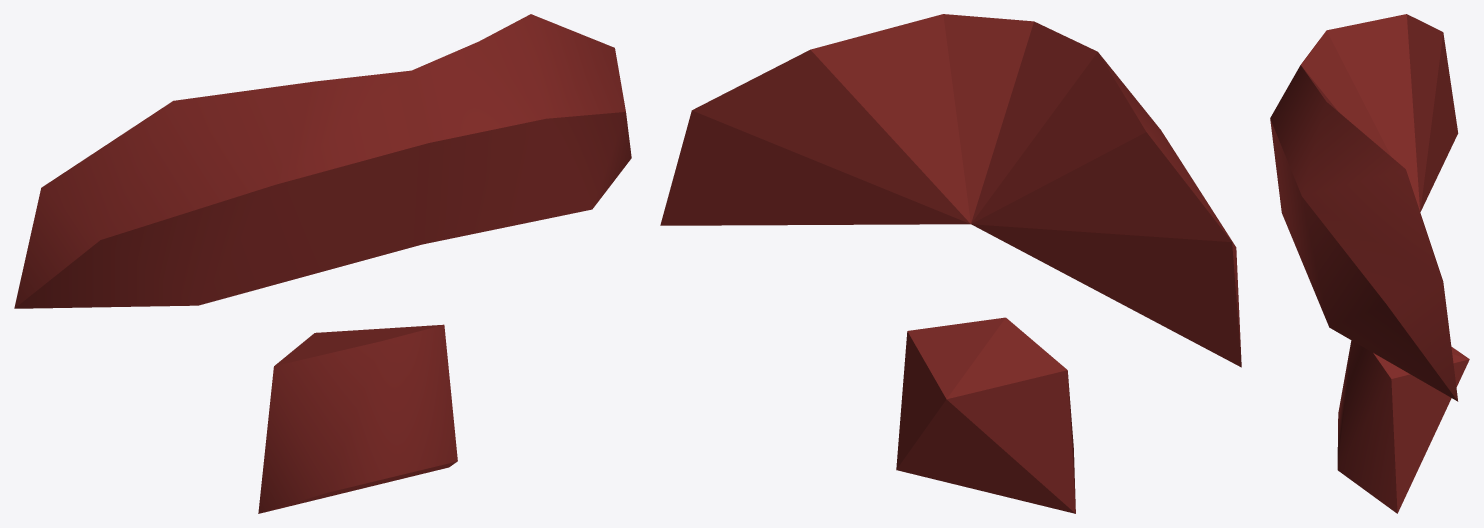
The model's file is Male_Mustache_02.fbx.
The picture shows the model from 3 angles, left to right: view 1: azimuth 30°, elevation 25°; view 2: azimuth 150°, elevation 25°; view 3: azimuth 270°, elevation 25°; orthographic projection. The views are drawn at different scales.
Visible parts, largest first — view 1: Male_Mustache_02; view 2: Male_Mustache_02; view 3: Male_Mustache_02.
Boxes of the visible parts, left/top/right/bottom form: Male_Mustache_02: left=14, top=14, right=631, bottom=513; Male_Mustache_02: left=660, top=14, right=1241, bottom=513; Male_Mustache_02: left=1270, top=14, right=1469, bottom=513.
Bounding box in the file's own units: 22.73 × 16.15 × 7.14.
